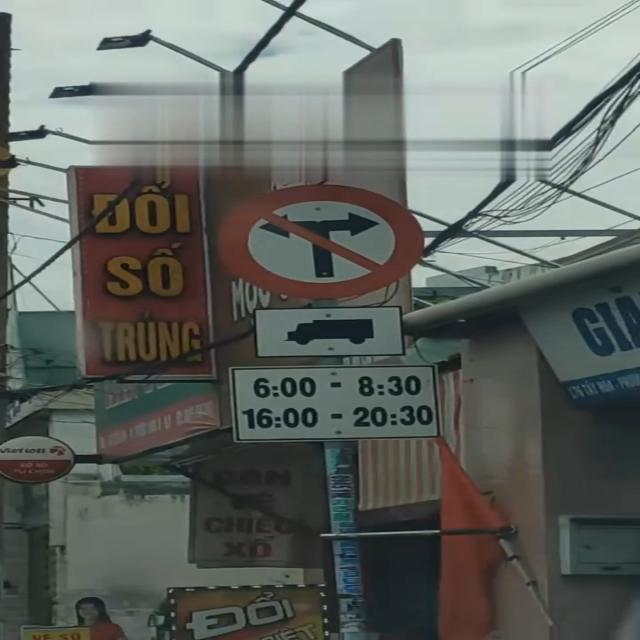137-cam-re-trai-va-re-phai: (221, 184, 431, 296)
